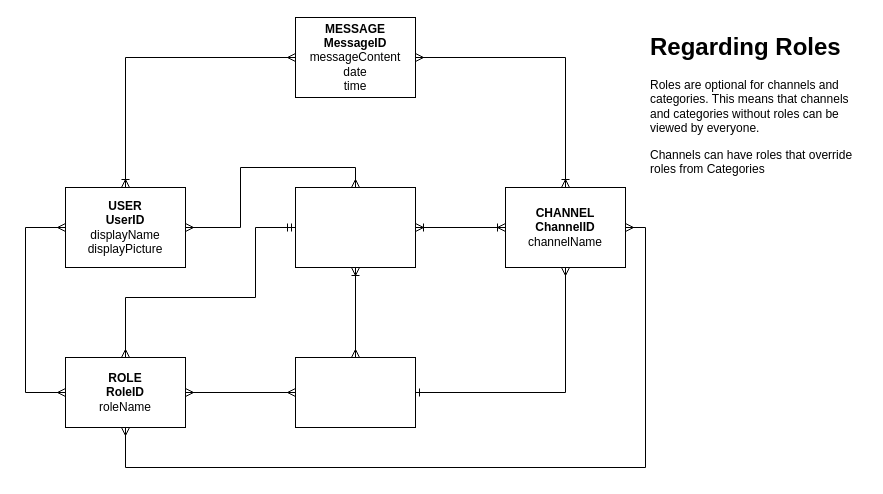
Image size: 883x494. Some labels were removed from this diagram. Each missing label, with the box of its shape:
CATEGORIES CategoryID categoryName: (294, 356, 416, 428)
SERVER ServerID serverName serverPicture: (294, 186, 416, 268)
